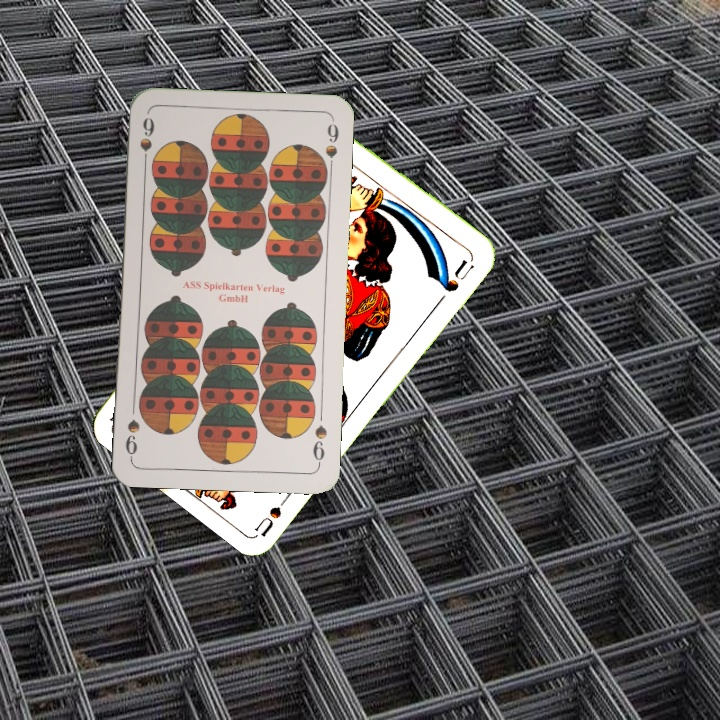S9: (136, 113, 157, 171), (309, 421, 330, 468)
SU: (251, 485, 297, 538)
